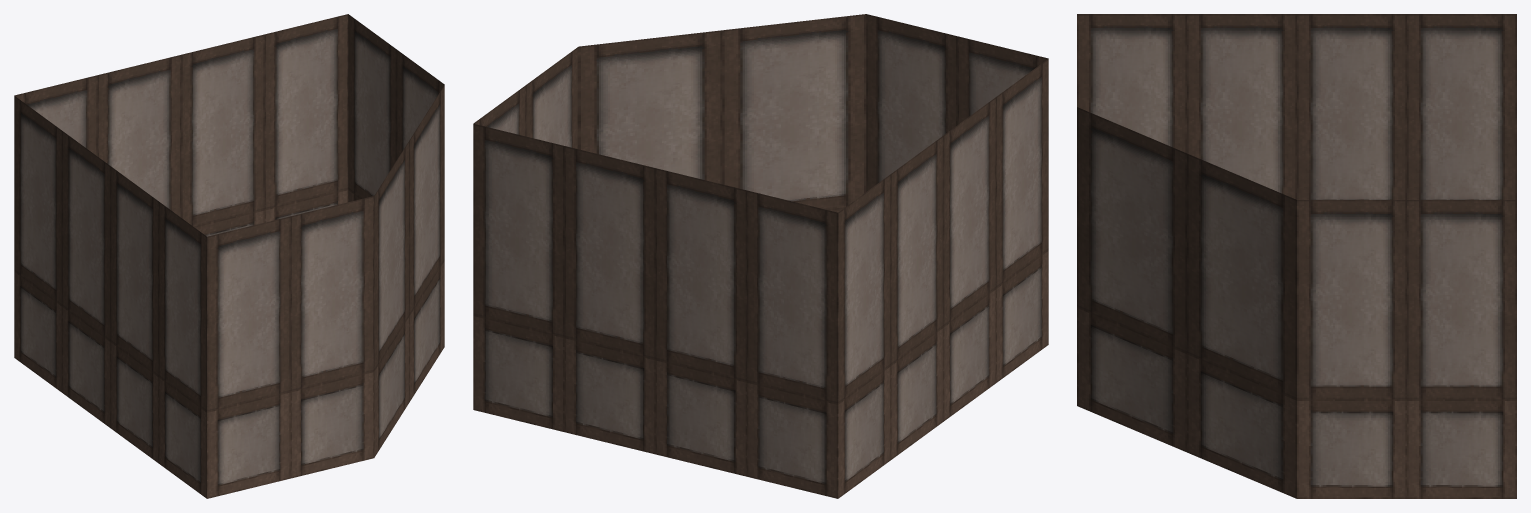
File: plaster_wall_cornered.glb
3 views of the same model, side by side, from view 1: azimuth 30°, elevation 25°; view 2: azimuth 150°, elevation 25°; view 3: azimuth 270°, elevation 25° (orthographic). The views are drawn at different scales.
Parts seen in each view (by area): view 1: plaster_wall_cornered; view 2: plaster_wall_cornered; view 3: plaster_wall_cornered.
Boxes of the visible parts, left/top/right/bottom form: plaster_wall_cornered: left=14, top=14, right=444, bottom=498; plaster_wall_cornered: left=473, top=14, right=1048, bottom=498; plaster_wall_cornered: left=1077, top=14, right=1516, bottom=498.
Bounding box in the file's own units: 4 × 3 × 4.
Materials: 1 (1 with a texture image).
